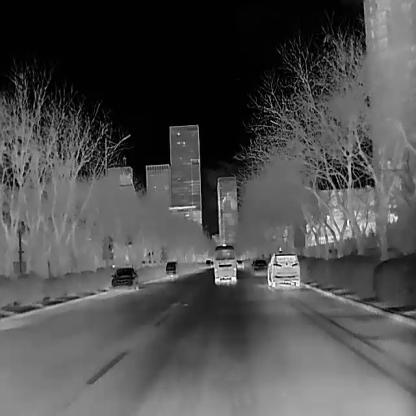bus: (212, 243, 236, 282)
car: (265, 252, 299, 288), (110, 267, 136, 290), (250, 258, 266, 274), (164, 260, 178, 277), (236, 258, 244, 268)
